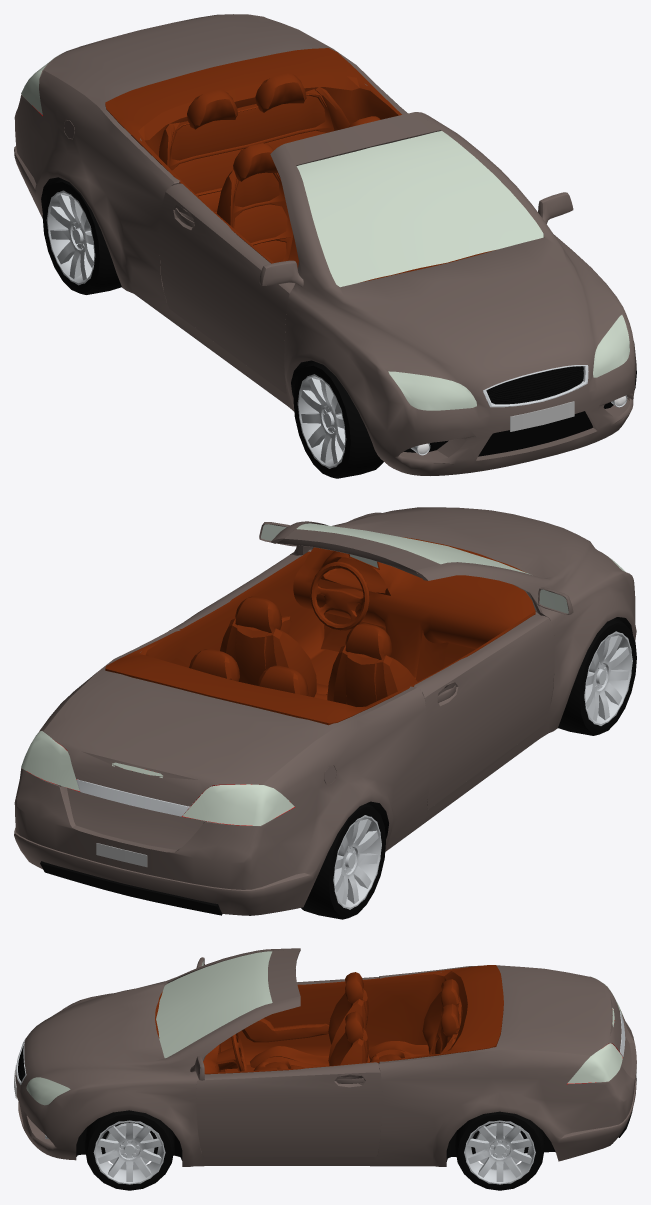
The model's file is ford.FBX.
3 views of the same model, one above another, from view 1: azimuth 30°, elevation 25°; view 2: azimuth 150°, elevation 25°; view 3: azimuth 270°, elevation 25° (orthographic). The views are drawn at different scales.
Parts seen in each view (by area): view 1: Ford Focus; view 2: Ford Focus; view 3: Ford Focus.
Part boxes in pixels (x1=…): Ford Focus: x1=14, y1=14, x2=636, y2=478; Ford Focus: x1=14, y1=507, x2=636, y2=919; Ford Focus: x1=14, y1=948, x2=636, y2=1190.
Bounding box in the file's own units: 82 × 58.62 × 192.
